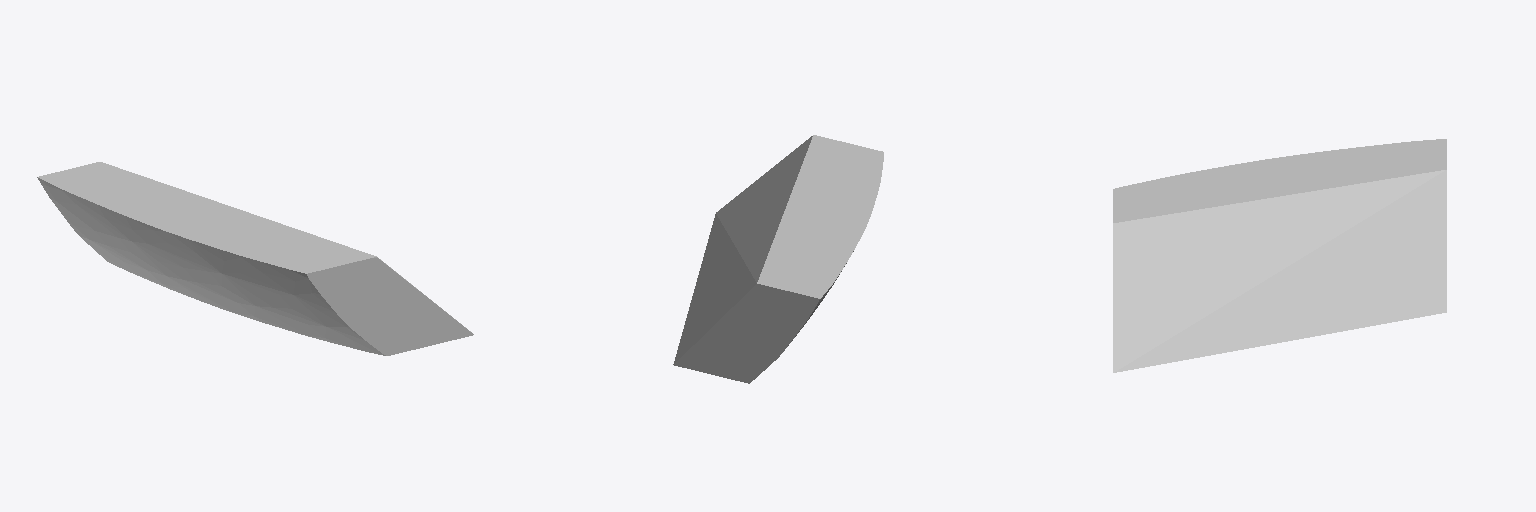
The model's file is pan_collision_38.obj.
3 views of the same model, side by side, from view 1: azimuth 30°, elevation 25°; view 2: azimuth 150°, elevation 25°; view 3: azimuth 270°, elevation 25° (orthographic).
Size of the model in its own units: 0.0339 by 0.0122 by 0.0361.